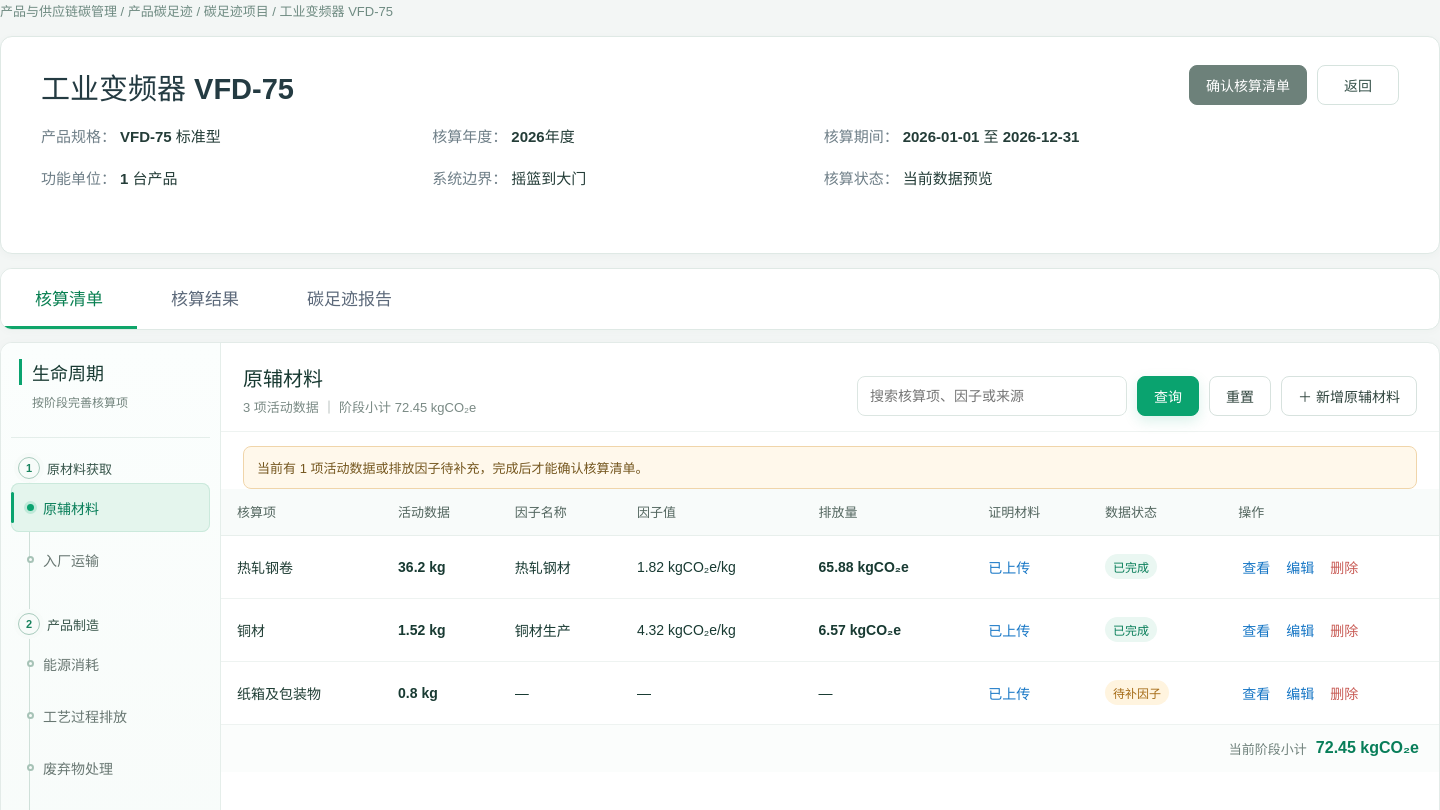
Test: 产品碳足迹运输活动 › 已上传仅显示状态，查看操作打开证明材料详情
The width and height of the screenshot is (1440, 810).
Click the button "查看" in the row of "热轧钢卷": (1256, 566) [1238,550,1274,582]
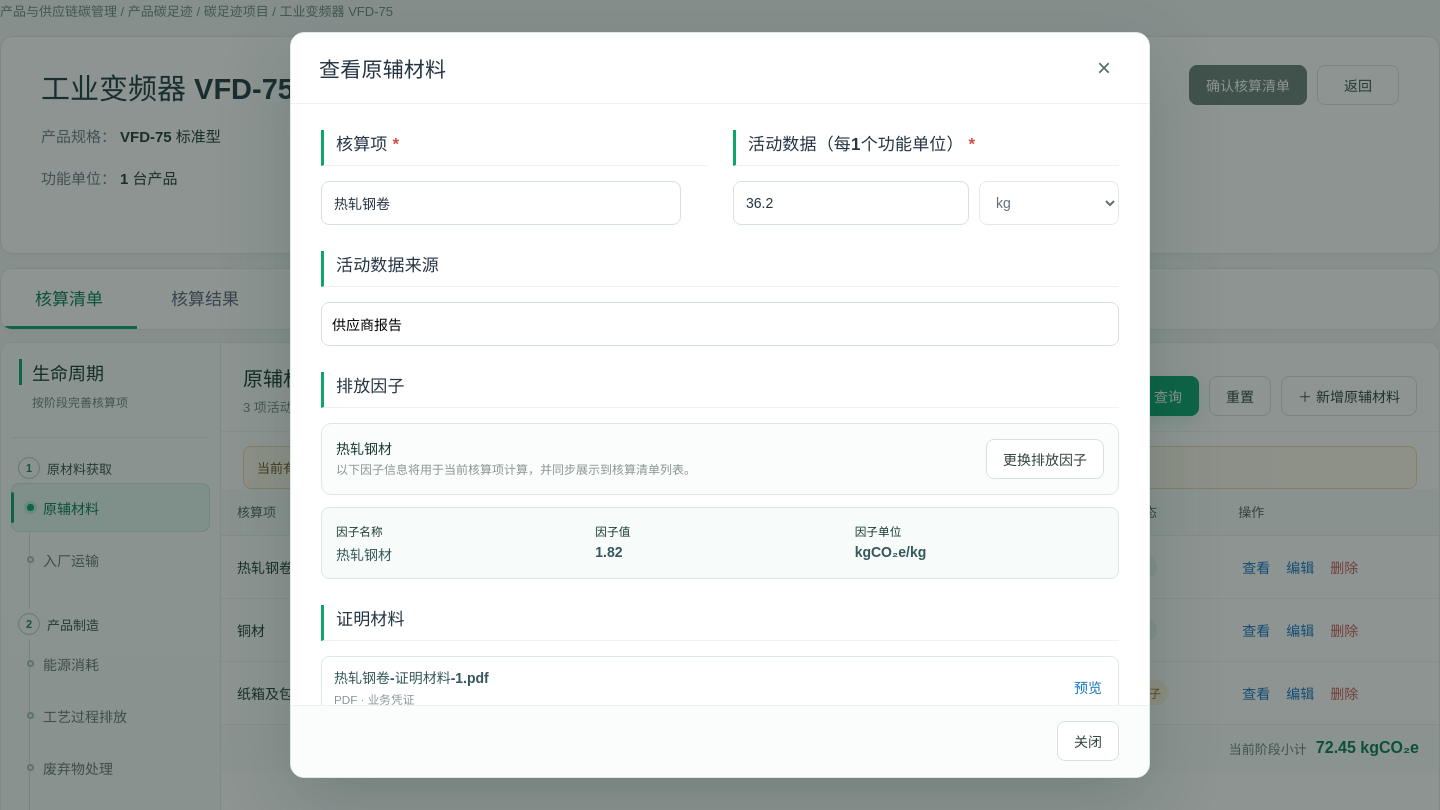
expect the dialog shows "证明材料": met, box [336,610,405,629]
expect the dialog shows "热轧钢卷-证明材料-1.pdf": met, box [334,670,489,686]
Click the button "关闭": (1088, 741) [1057,721,1119,761]
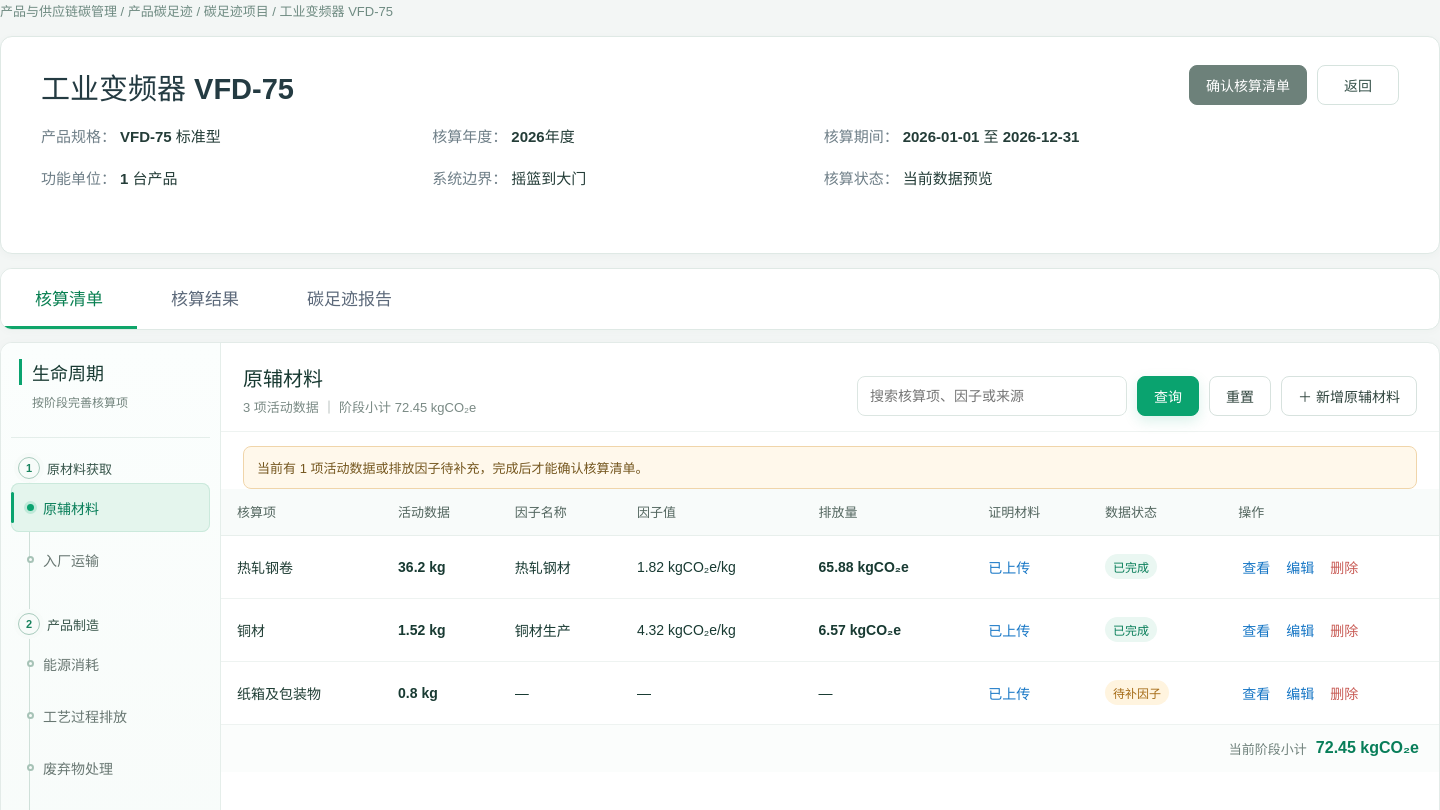
expect the dialog is gone: met
